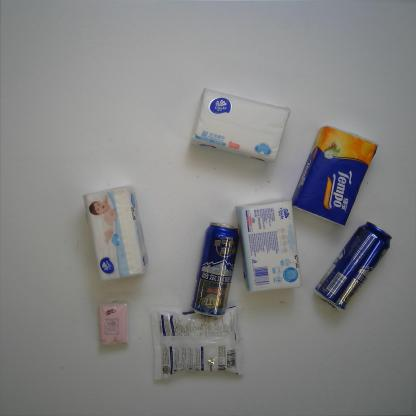Alcohol: (314, 220, 394, 314), (190, 220, 240, 319)
Seasoner: (148, 303, 247, 382)
Tissue: (292, 123, 379, 228), (189, 86, 292, 164), (233, 197, 304, 295), (82, 182, 149, 284), (97, 300, 131, 348)
